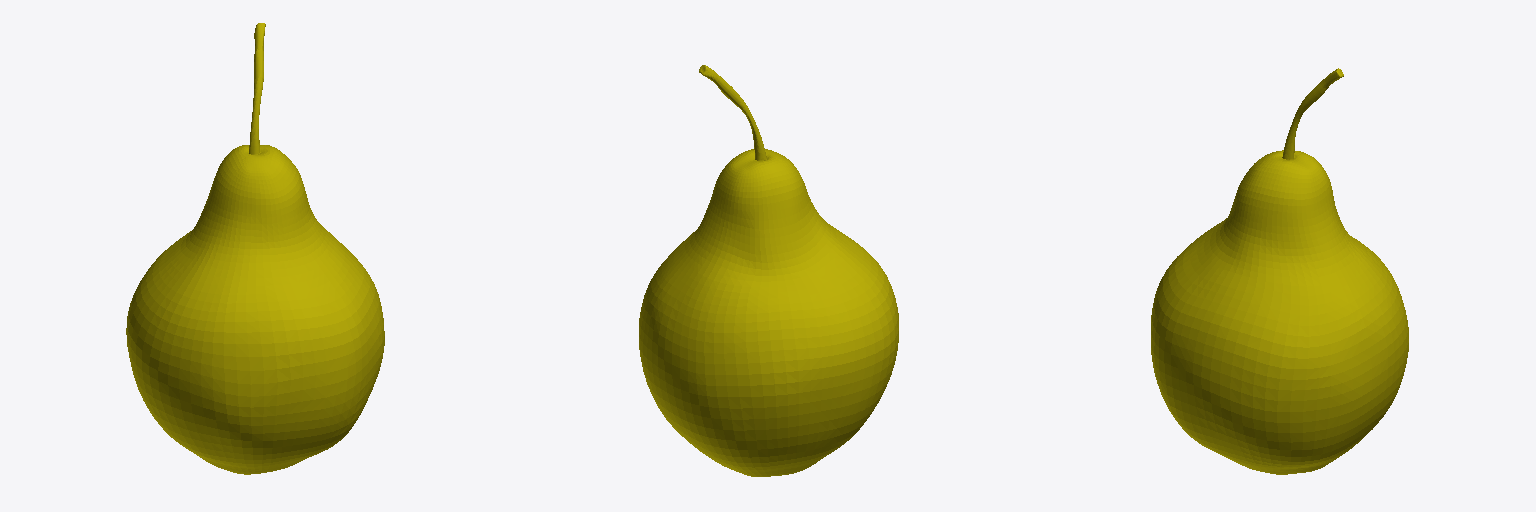
Rendered from pear.obj.
3 views of the same model, side by side, from view 1: azimuth 30°, elevation 25°; view 2: azimuth 150°, elevation 25°; view 3: azimuth 270°, elevation 25° (orthographic).
Visible parts, largest first — view 1: pear.002_Cube.002; view 2: pear.002_Cube.002; view 3: pear.002_Cube.002.
Part boxes in pixels (bbox=[...]): pear.002_Cube.002: bbox=[126, 23, 384, 474]; pear.002_Cube.002: bbox=[639, 65, 898, 476]; pear.002_Cube.002: bbox=[1151, 68, 1408, 474].
Size of the model in its own units: 0.0499 by 0.0845 by 0.0487.